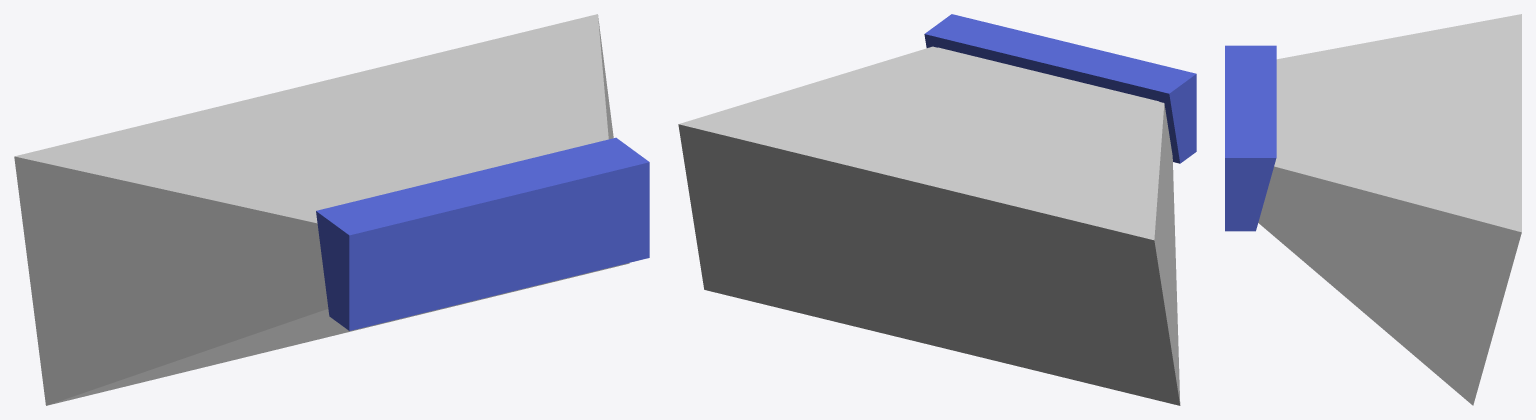
The model's file is model_light_wallLight_01.fbx.
3 views of the same model, side by side, from view 1: azimuth 30°, elevation 25°; view 2: azimuth 150°, elevation 25°; view 3: azimuth 270°, elevation 25° (orthographic). The views are drawn at different scales.
Parts seen in each view (by area): view 1: Cube.021, Cube.020; view 2: Cube.021, Cube.020; view 3: Cube.021, Cube.020.
Boxes of the visible parts, box(x1,y1,x2,y2) form: Cube.021: box(14, 14, 629, 405); Cube.020: box(316, 137, 649, 330); Cube.021: box(678, 46, 1180, 405); Cube.020: box(924, 14, 1196, 163); Cube.021: box(1258, 14, 1521, 405); Cube.020: box(1225, 45, 1276, 231).
Bounding box in the file's own units: 61.44 × 25.59 × 35.28.
